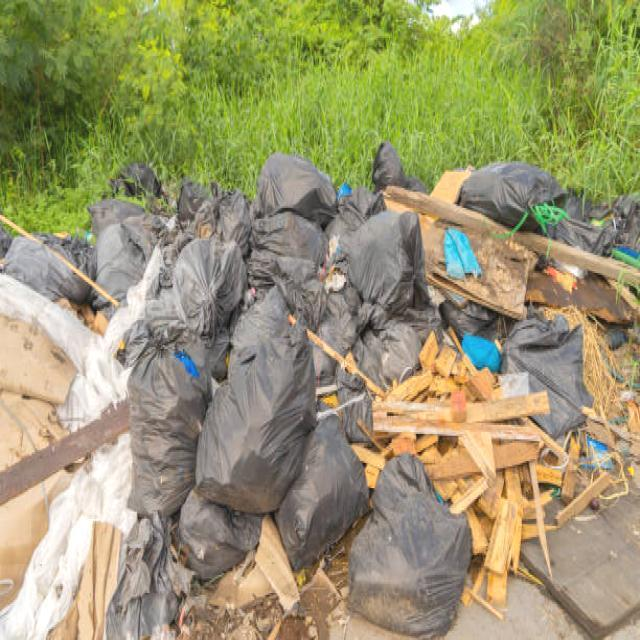high trash: (0, 142, 640, 640)
